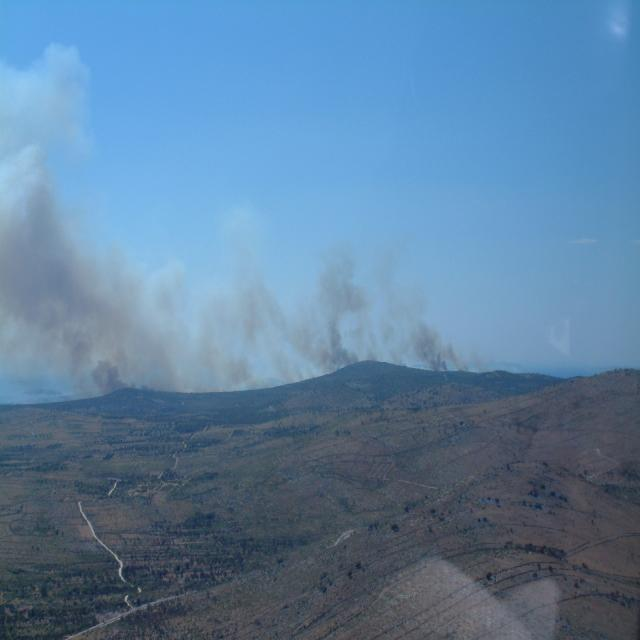Smoke: (1, 42, 500, 394)
